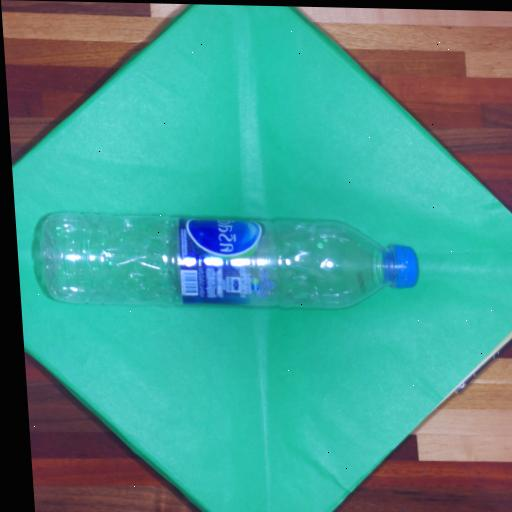bottle: (40, 212, 417, 307)
